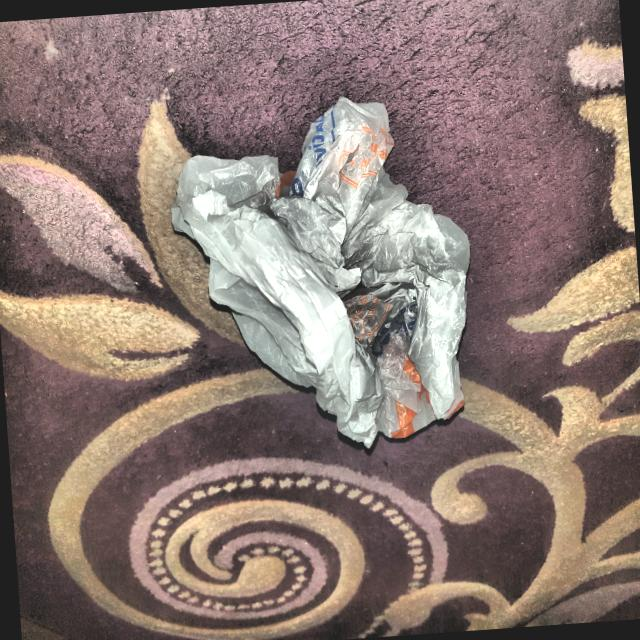plastic bag: (157, 79, 493, 474)
